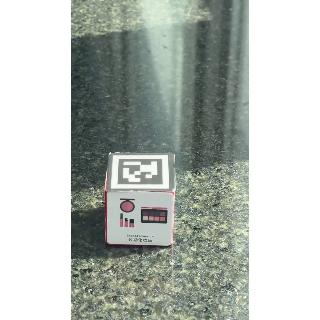Expired_Cosmetic: (100, 190, 183, 257)
